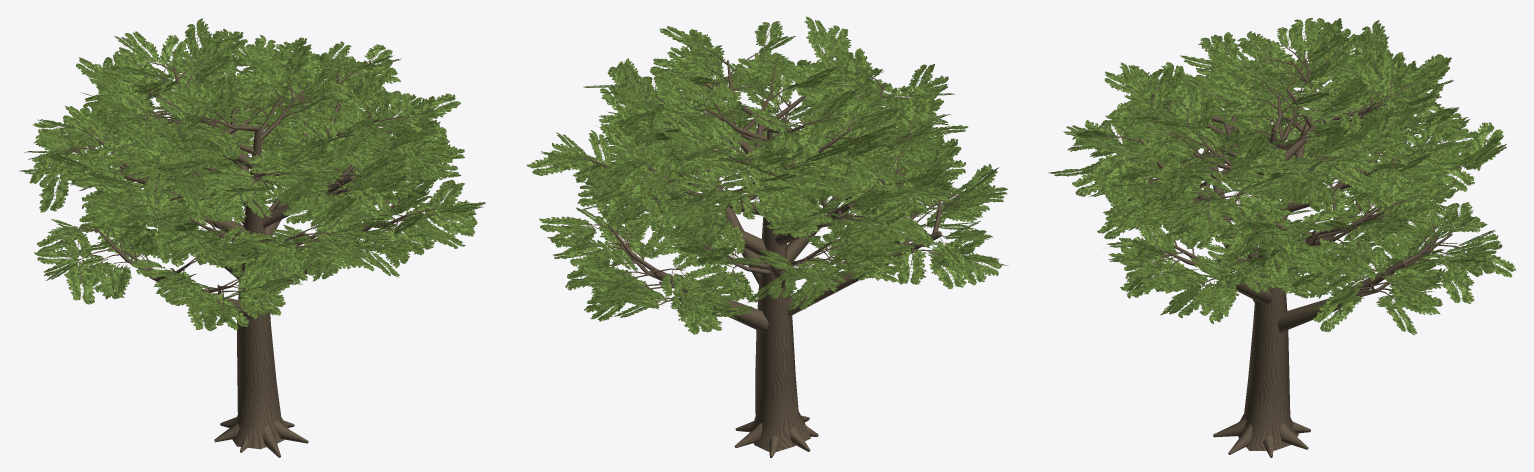
File: oak_mid.glb
3 renders of one model, left to right at view 1: azimuth 30°, elevation 25°; view 2: azimuth 150°, elevation 25°; view 3: azimuth 270°, elevation 25°, orthographic.
Visible parts, largest first — view 1: oak_mid; view 2: oak_mid; view 3: oak_mid.
Part boxes in pixels (x1,y1,x2,y2): oak_mid: (19, 18, 485, 457); oak_mid: (526, 16, 1008, 457); oak_mid: (1048, 18, 1515, 457).
Size of the model in its own units: 8.72 by 7.39 by 8.74.
2 materials, 2 textured.
